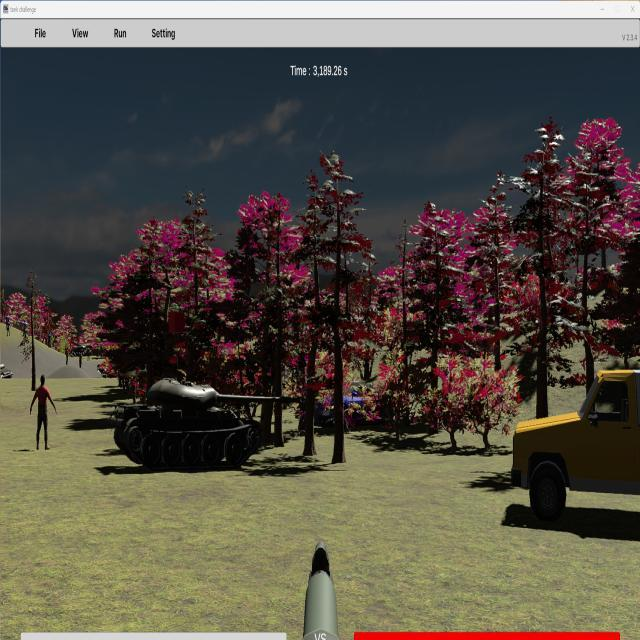Human: (30, 374, 57, 451)
Tank: (110, 376, 293, 473), (0, 362, 14, 381)
car: (511, 366, 640, 523)
